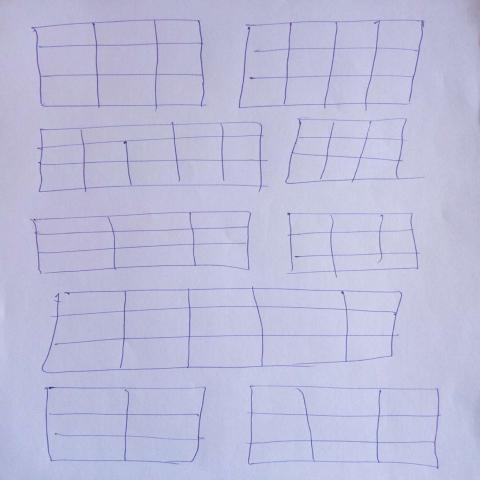Table: (40, 288, 404, 376), (235, 19, 426, 111), (246, 385, 442, 469), (39, 122, 264, 195), (32, 18, 210, 110), (29, 211, 253, 275), (44, 386, 209, 465), (285, 117, 412, 186), (288, 212, 420, 278)
